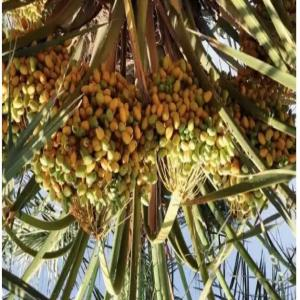palm tree: (2, 0, 296, 299)
